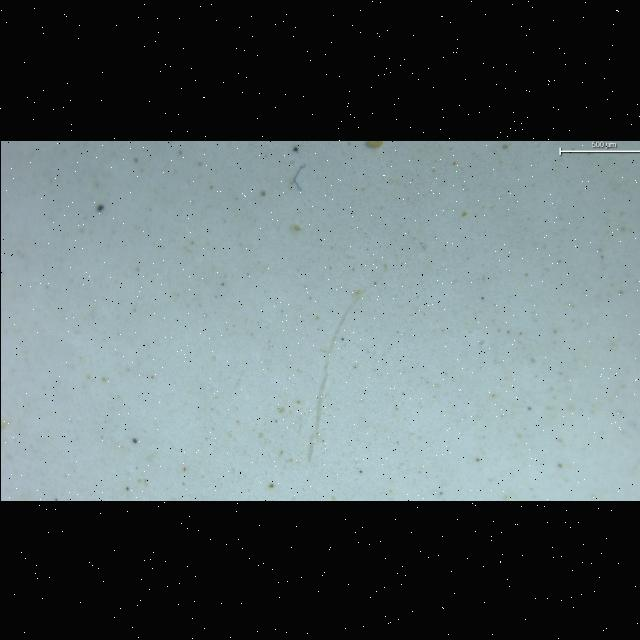Fibre: (306, 289, 365, 462), (292, 164, 304, 190)
Fragment: (365, 140, 382, 147)
